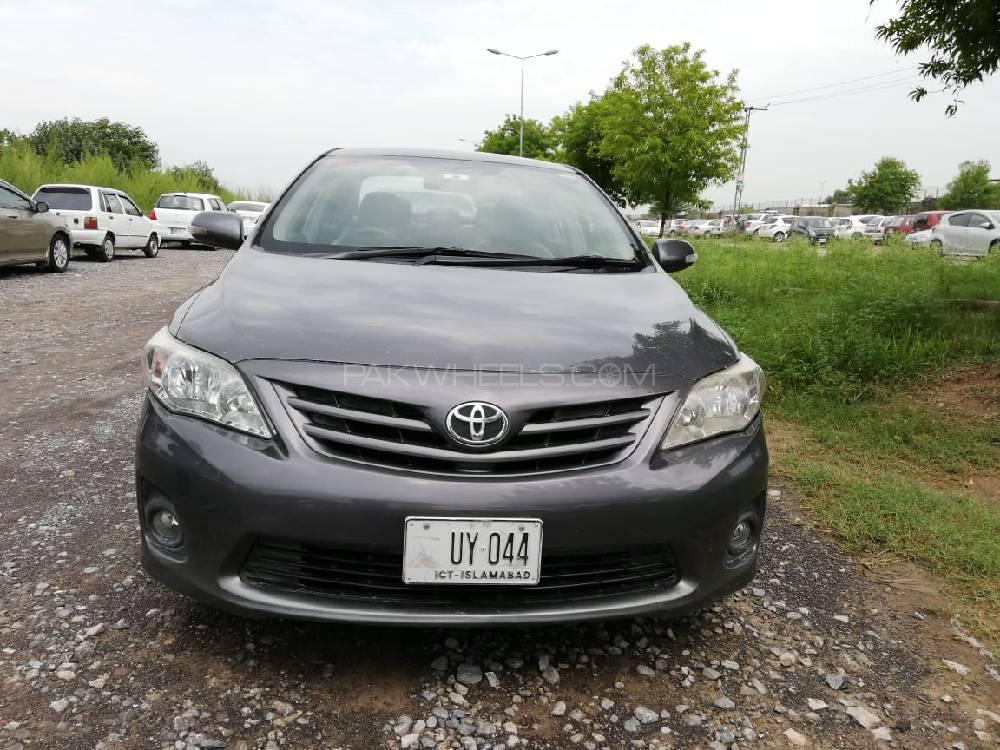license plate: (406, 517, 543, 588)
